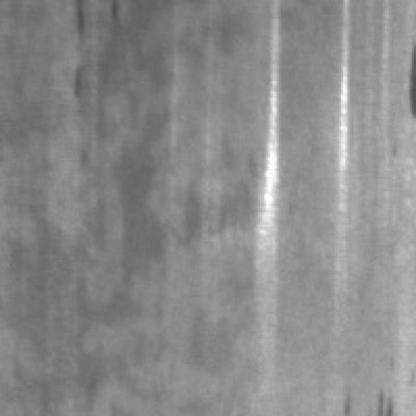scratches: (252, 10, 291, 310), (333, 8, 360, 235)
